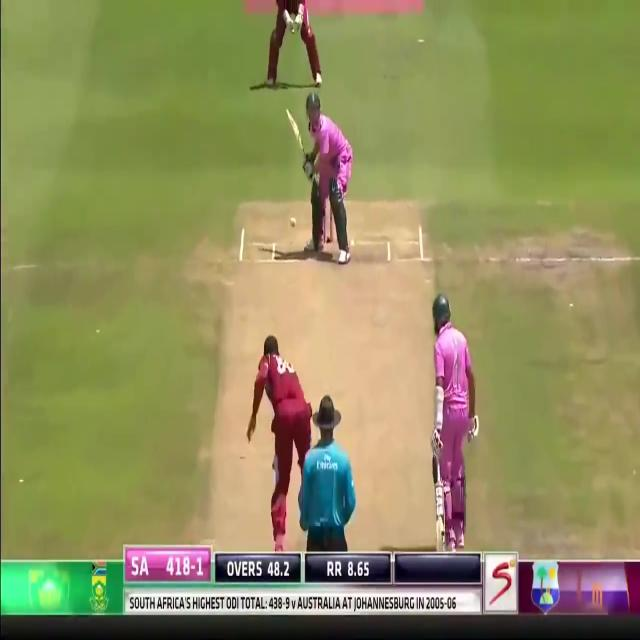Ball: (432, 296, 477, 552), (301, 89, 352, 259)
Fielder: (246, 336, 313, 553), (264, 0, 315, 89)
Umpire: (300, 394, 356, 552)
